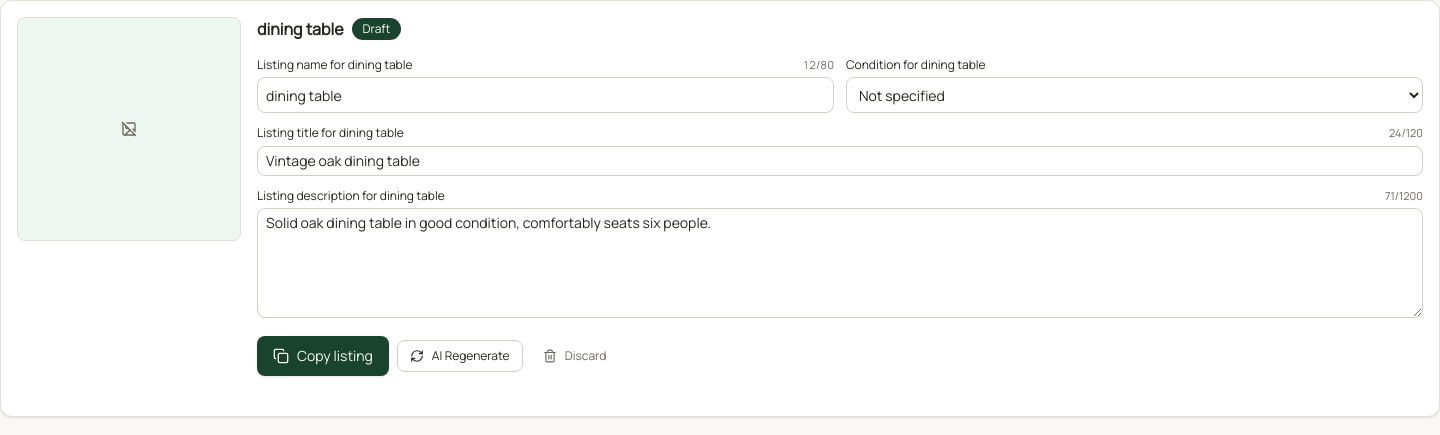
ListingDraftCard › copy listing › copy feedback is cleared when the item starts regenerating
Click the button "Copy listing": (323, 356) x1=257 y1=336 x2=389 y2=376
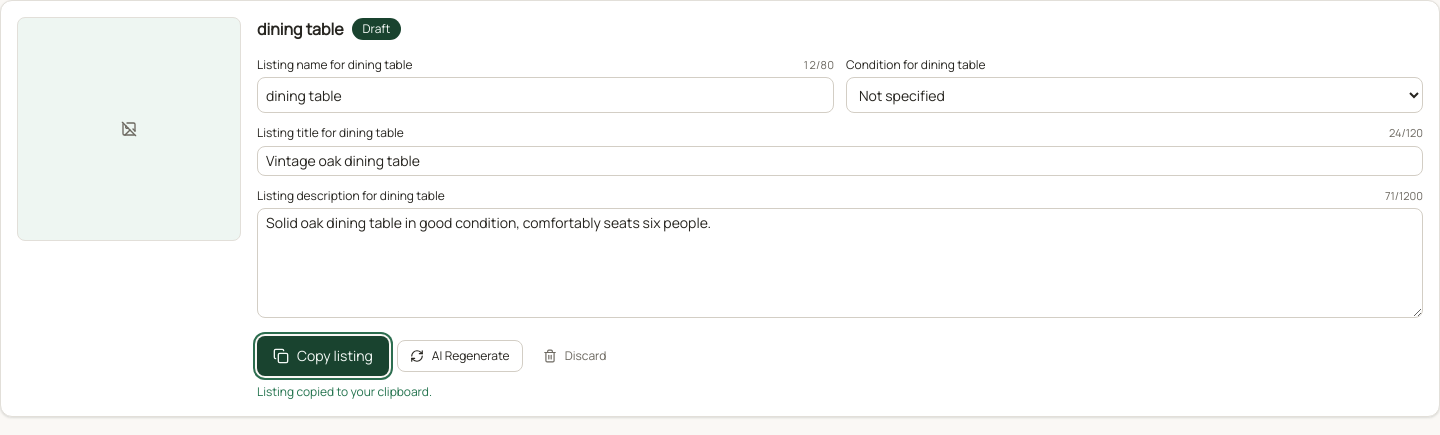
Expected: the text "Listing copied to your clipboard." is shown, x1=257 y1=383 x2=432 y2=400
